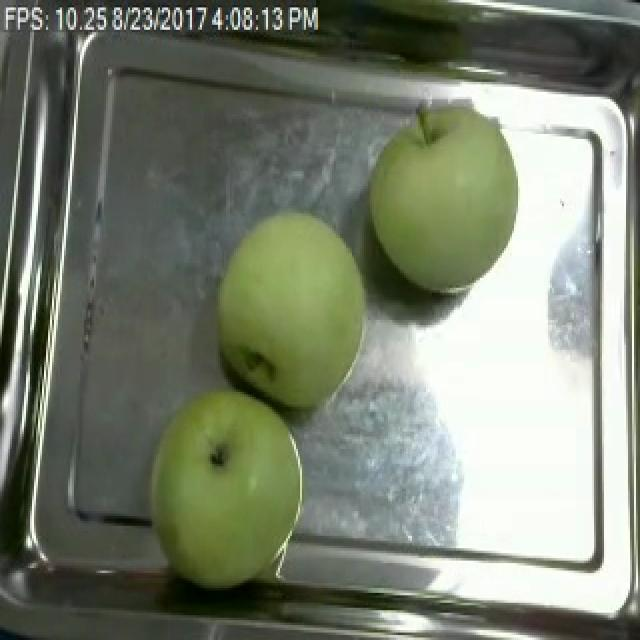50-_ripeness: (372, 99, 532, 315), (142, 394, 313, 588), (214, 205, 377, 400)
